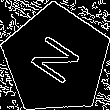N_SE: (25, 29, 87, 90)
